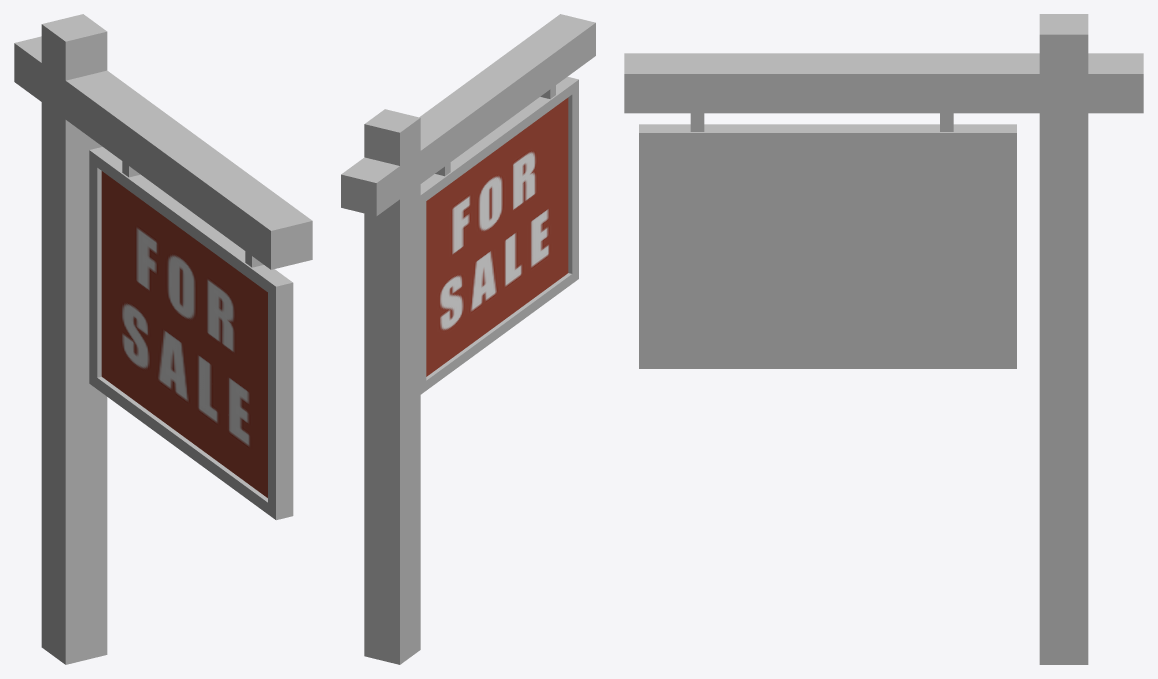
Rendered from for_sale_sign.glb.
3 renders of one model, left to right at view 1: azimuth 30°, elevation 25°; view 2: azimuth 150°, elevation 25°; view 3: azimuth 270°, elevation 25°, orthographic. The views are drawn at different scales.
Parts seen in each view (by area): view 1: Cube; view 2: Cube; view 3: Cube.
Part boxes in pixels (x1=…): Cube: x1=14, y1=14, x2=312, y2=664; Cube: x1=341, y1=14, x2=595, y2=664; Cube: x1=624, y1=14, x2=1143, y2=664.
Bounding box in the file's own units: 43.92 × 629 × 469.
2 materials, 1 textured.
